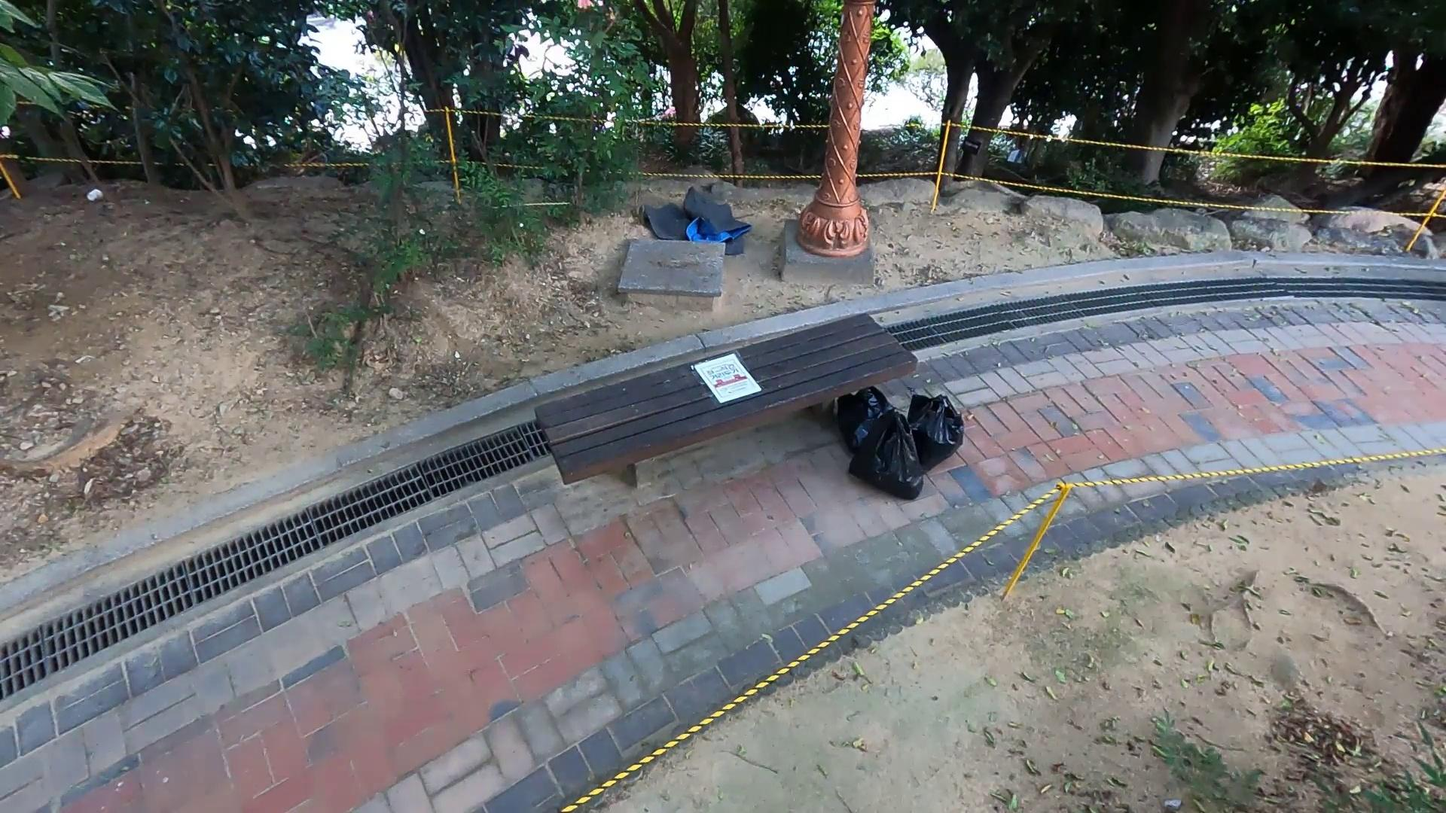trash: (847, 400, 923, 505), (905, 381, 972, 471), (836, 377, 905, 461)
